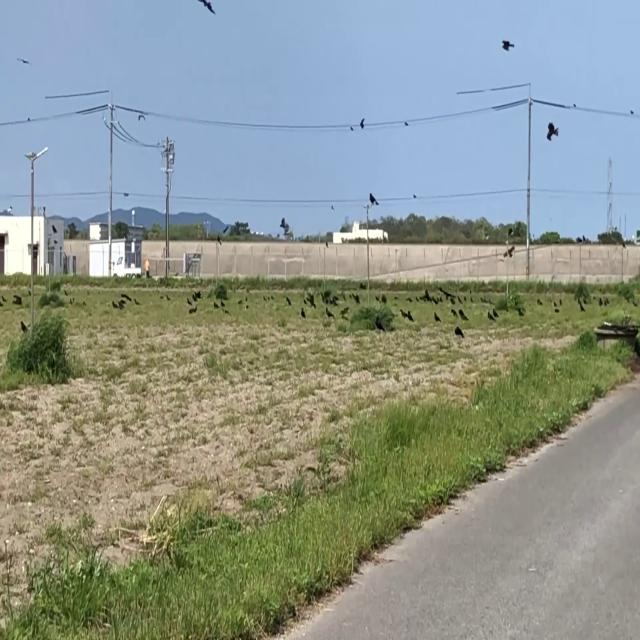bird: (546, 116, 558, 145), (202, 0, 215, 24), (502, 31, 513, 57), (280, 212, 289, 238), (368, 188, 378, 211), (460, 306, 464, 326), (360, 114, 364, 132), (301, 303, 305, 319), (599, 295, 603, 309), (141, 107, 144, 123)
